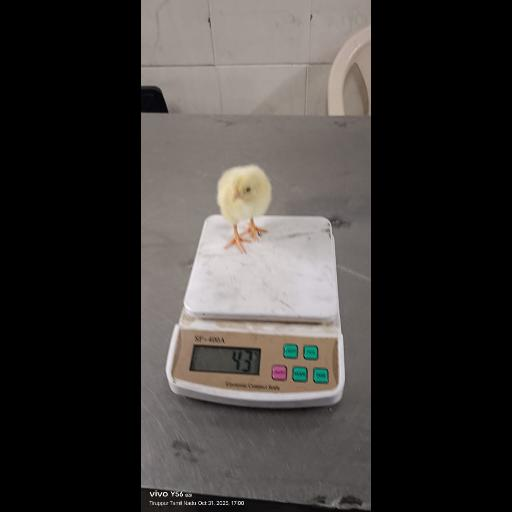chick: (216, 165, 273, 254)
